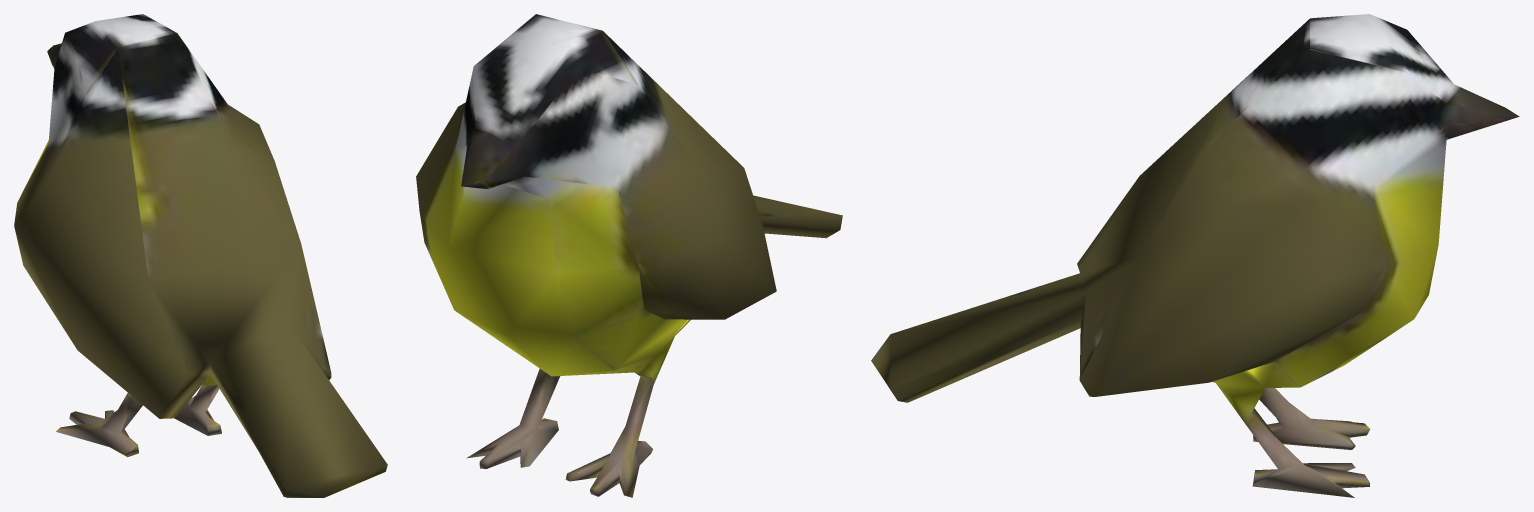
The model's file is great_kiskadee-DhJG4vCF.glb.
3 views of the same model, side by side, from view 1: azimuth 30°, elevation 25°; view 2: azimuth 150°, elevation 25°; view 3: azimuth 270°, elevation 25° (orthographic). The views are drawn at different scales.
Visible parts, largest first — view 1: geom0; view 2: geom0; view 3: geom0.
Boxes of the visible parts, <box> form: geom0: <box>14,14,387,497</box>; geom0: <box>416,14,842,497</box>; geom0: <box>871,14,1519,497</box>.
Size of the model in its own units: 0.5001 by 0.742 by 1.01.
1 material, 1 textured.
